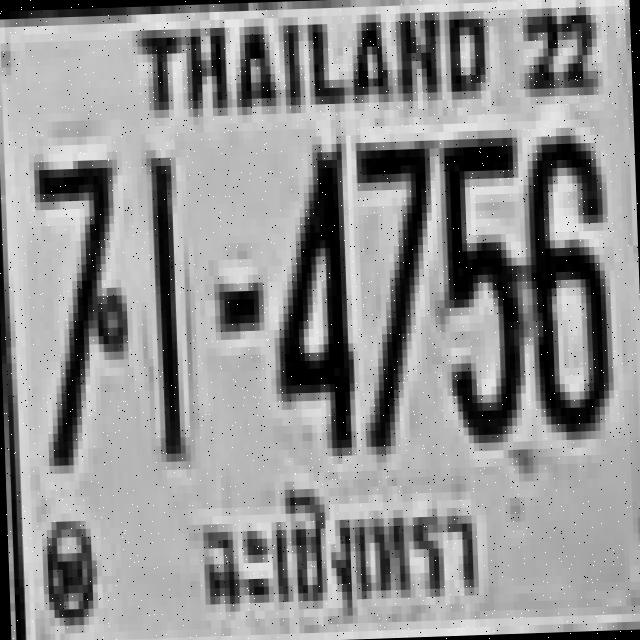1: (146, 153, 180, 458)
4: (267, 140, 351, 446)
5: (438, 130, 522, 436)
6: (520, 126, 610, 433)
7: (28, 151, 127, 466), (350, 132, 439, 447), (352, 132, 433, 350)
Chachoengsao: (185, 462, 495, 622)
